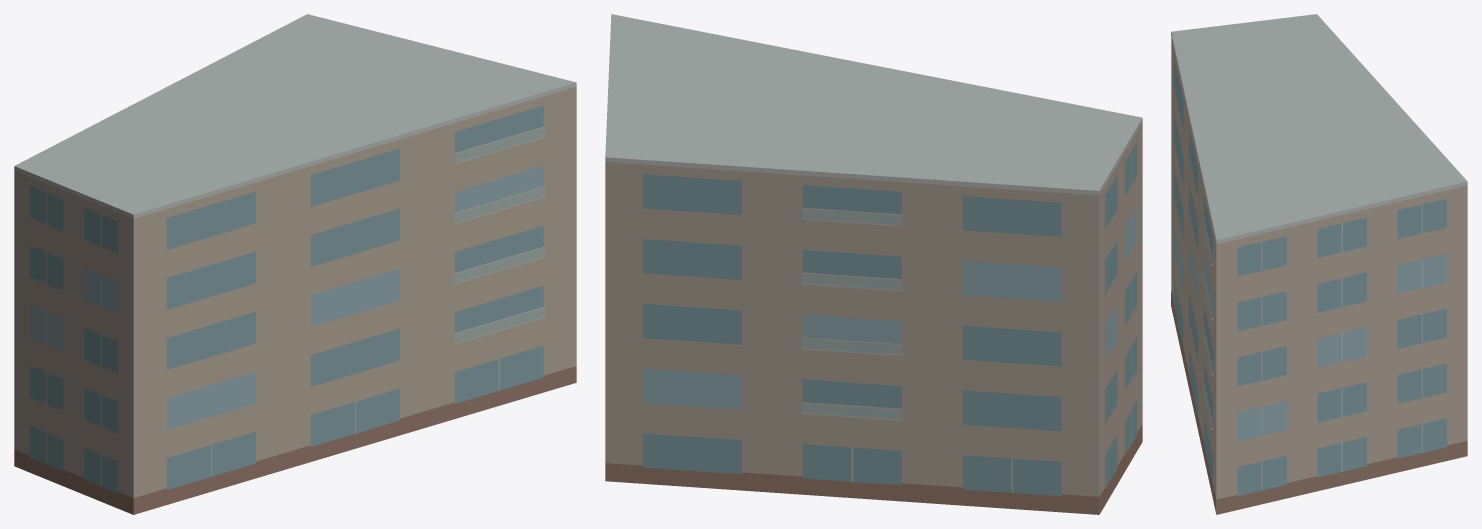
Rendered from survey-upis-33018269.glb.
The picture shows the model from 3 angles, left to right: view 1: azimuth 30°, elevation 25°; view 2: azimuth 150°, elevation 25°; view 3: azimuth 270°, elevation 25°; orthographic projection. The views are drawn at different scales.
Visible parts, largest first — view 1: survey-upis-33018269.tmp; view 2: survey-upis-33018269.tmp; view 3: survey-upis-33018269.tmp.
Part boxes in pixels (x1,y1,x2,y2): survey-upis-33018269.tmp: [14, 14, 576, 514]; survey-upis-33018269.tmp: [605, 14, 1142, 514]; survey-upis-33018269.tmp: [1171, 14, 1467, 514].
Size of the model in its own units: 29.9 by 16.9 by 16.56.
